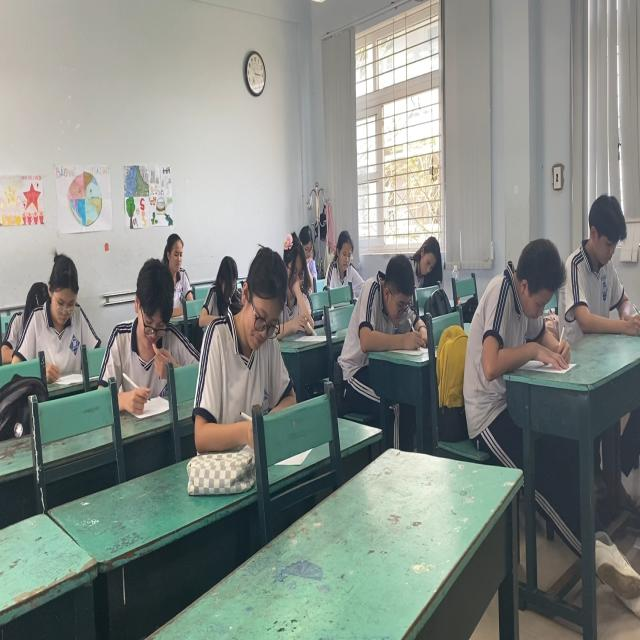not_cheating: (464, 244, 560, 374), (18, 254, 100, 388), (558, 192, 628, 336), (226, 251, 288, 402), (118, 257, 184, 385), (347, 258, 412, 374), (275, 233, 312, 337), (158, 226, 195, 302), (201, 254, 243, 316), (322, 226, 360, 292), (410, 233, 444, 275)
